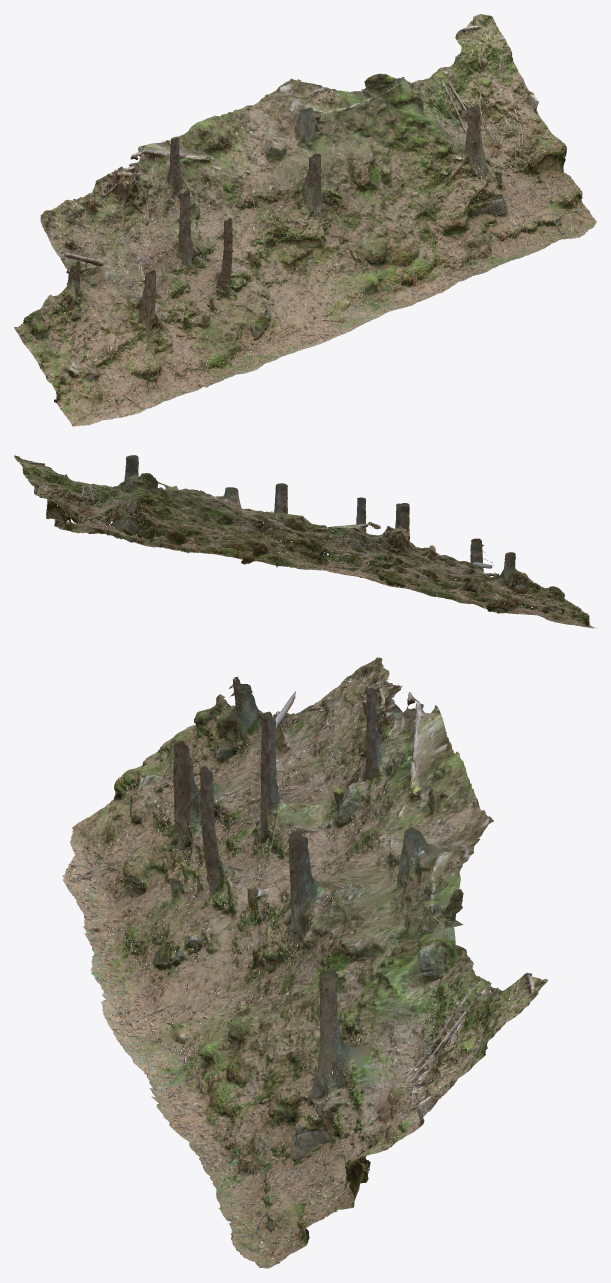
File: sf-slope-in-the-forest-4735b1.glb
3 renders of one model, top to bottom at view 1: azimuth 30°, elevation 25°; view 2: azimuth 150°, elevation 25°; view 3: azimuth 270°, elevation 25°, orthographic. The views are drawn at different scales.
Parts seen in each view (by area): view 1: FBX_1_mln_4x8K_02_FBX_1_mln_4x8K_02_u1_v2_0, FBX_1_mln_4x8K_02_FBX_1_mln_4x8K_02_u2_v1_0, FBX_1_mln_4x8K_02_FBX_1_mln_4x8K_02_u1_v1_0, FBX_1_mln_4x8K_02_FBX_1_mln_4x8K_02_u2_v2_0; view 2: FBX_1_mln_4x8K_02_FBX_1_mln_4x8K_02_u1_v1_0, FBX_1_mln_4x8K_02_FBX_1_mln_4x8K_02_u1_v2_0, FBX_1_mln_4x8K_02_FBX_1_mln_4x8K_02_u2_v1_0, FBX_1_mln_4x8K_02_FBX_1_mln_4x8K_02_u2_v2_0; view 3: FBX_1_mln_4x8K_02_FBX_1_mln_4x8K_02_u1_v2_0, FBX_1_mln_4x8K_02_FBX_1_mln_4x8K_02_u1_v1_0, FBX_1_mln_4x8K_02_FBX_1_mln_4x8K_02_u2_v2_0, FBX_1_mln_4x8K_02_FBX_1_mln_4x8K_02_u2_v1_0.
Boxes of the visible parts, x1,y1,x2,y2 form: FBX_1_mln_4x8K_02_FBX_1_mln_4x8K_02_u1_v2_0: (144,29,594,366); FBX_1_mln_4x8K_02_FBX_1_mln_4x8K_02_u2_v1_0: (43,128,387,416); FBX_1_mln_4x8K_02_FBX_1_mln_4x8K_02_u1_v1_0: (45,73,506,413); FBX_1_mln_4x8K_02_FBX_1_mln_4x8K_02_u2_v2_0: (14,14,596,426); FBX_1_mln_4x8K_02_FBX_1_mln_4x8K_02_u1_v1_0: (118,473,550,620); FBX_1_mln_4x8K_02_FBX_1_mln_4x8K_02_u1_v2_0: (17,455,422,593); FBX_1_mln_4x8K_02_FBX_1_mln_4x8K_02_u2_v1_0: (252,483,551,621); FBX_1_mln_4x8K_02_FBX_1_mln_4x8K_02_u2_v2_0: (14,455,596,628); FBX_1_mln_4x8K_02_FBX_1_mln_4x8K_02_u1_v2_0: (91,688,521,1265); FBX_1_mln_4x8K_02_FBX_1_mln_4x8K_02_u1_v1_0: (62,671,466,1189); FBX_1_mln_4x8K_02_FBX_1_mln_4x8K_02_u2_v2_0: (67,657,547,1268); FBX_1_mln_4x8K_02_FBX_1_mln_4x8K_02_u2_v1_0: (63,668,438,1075).
Bounding box in the file's own units: 4237 × 1203 × 1789.
4 materials, 4 textured.
